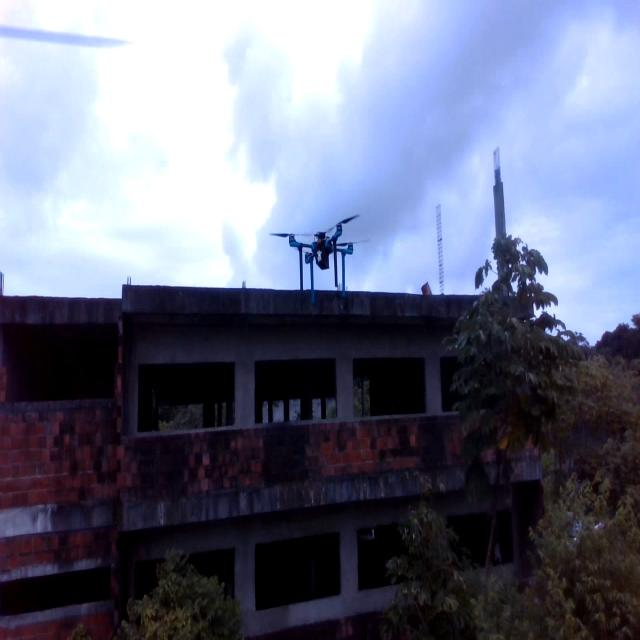-uav-: (258, 188, 372, 323)
